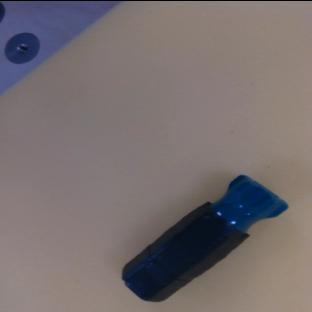part_2_bad: (116, 162, 290, 312)
